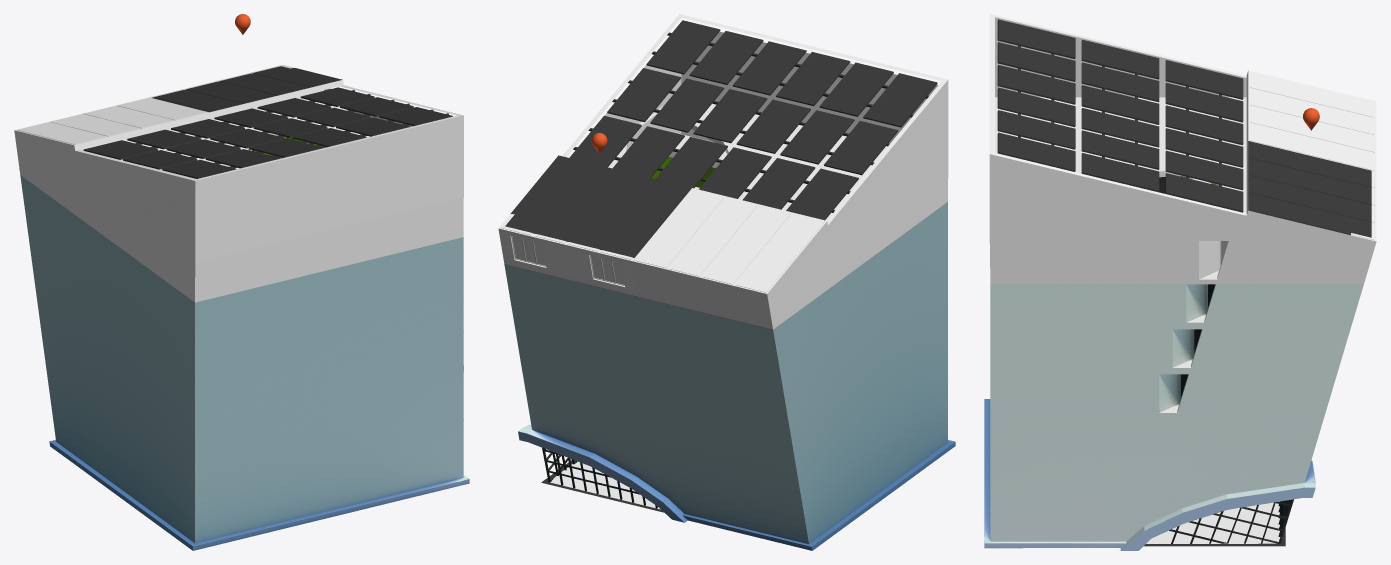
File: linq_low_poly_web_app.glb
3 views of the same model, side by side, from view 1: azimuth 30°, elevation 25°; view 2: azimuth 150°, elevation 25°; view 3: azimuth 270°, elevation 25° (orthographic). The views are drawn at different scales.
Parts seen in each view (by area): view 1: LINQ, MYLINQ_roof, MYLINQ; view 2: LINQ, MYLINQ_roof, MYLINQ, LINQ_atrium; view 3: LINQ, MYLINQ_roof, MYLINQ, LINQ_atrium.
Part boxes in pixels (x1=…): LINQ: x1=20, y1=175, x2=469, y2=550; MYLINQ_roof: x1=83, y1=66, x2=463, y2=255; MYLINQ: x1=14, y1=65, x2=463, y2=302; LINQ: x1=504, y1=202, x2=955, y2=550; MYLINQ_roof: x1=505, y1=14, x2=943, y2=257; MYLINQ: x1=498, y1=78, x2=948, y2=329; LINQ_atrium: x1=541, y1=134, x2=727, y2=512; LINQ: x1=984, y1=284, x2=1363, y2=550; MYLINQ_roof: x1=989, y1=16, x2=1371, y2=237; MYLINQ: x1=989, y1=14, x2=1376, y2=284; LINQ_atrium: x1=1144, y1=177, x2=1285, y2=546.
Size of what is drawn, in the model's own units: 40.9 by 51.9 by 46.05.
Materials: 20 (3 with a texture image).
